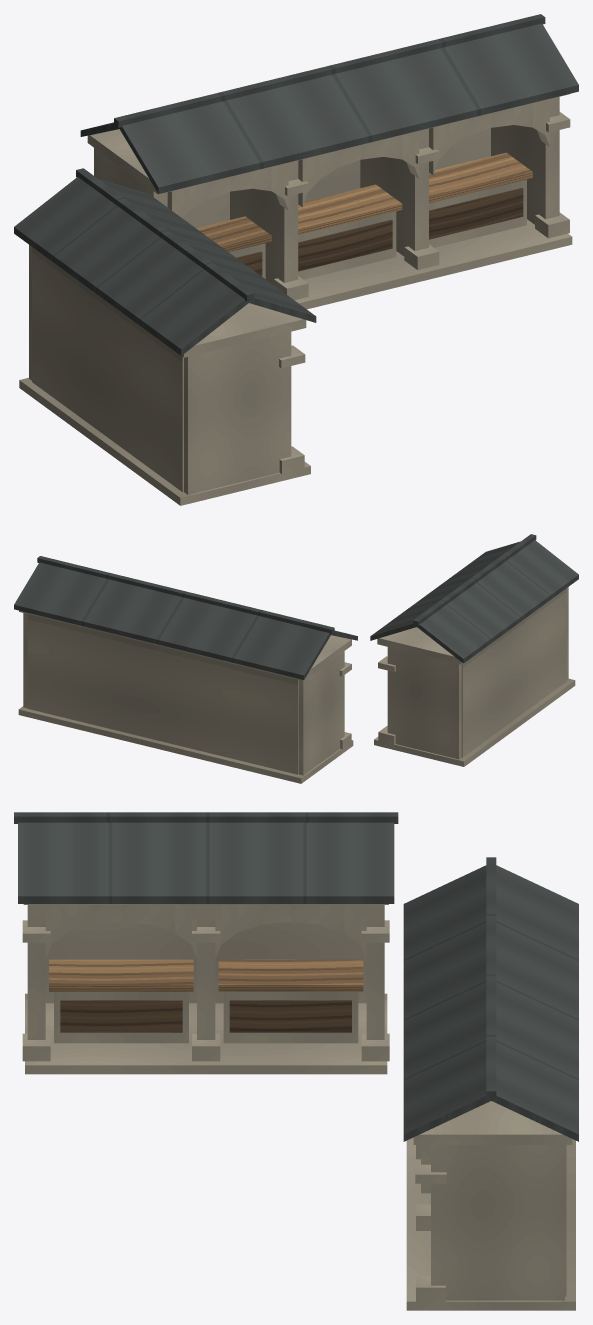
3 renders of one model, top to bottom at view 1: azimuth 30°, elevation 25°; view 2: azimuth 150°, elevation 25°; view 3: azimuth 270°, elevation 25°, orthographic. The views are drawn at different scales.
Visible parts, largest first — view 1: abeokuta; view 2: abeokuta; view 3: abeokuta.
Part boxes in pixels (left/top/right/bottom): abeokuta: left=14, top=14, right=578, bottom=505; abeokuta: left=14, top=534, right=578, bottom=783; abeokuta: left=14, top=812, right=578, bottom=1310.
Bounding box in the file's own units: 7.4 × 2.46 × 5.63.
1 material, 1 textured.
